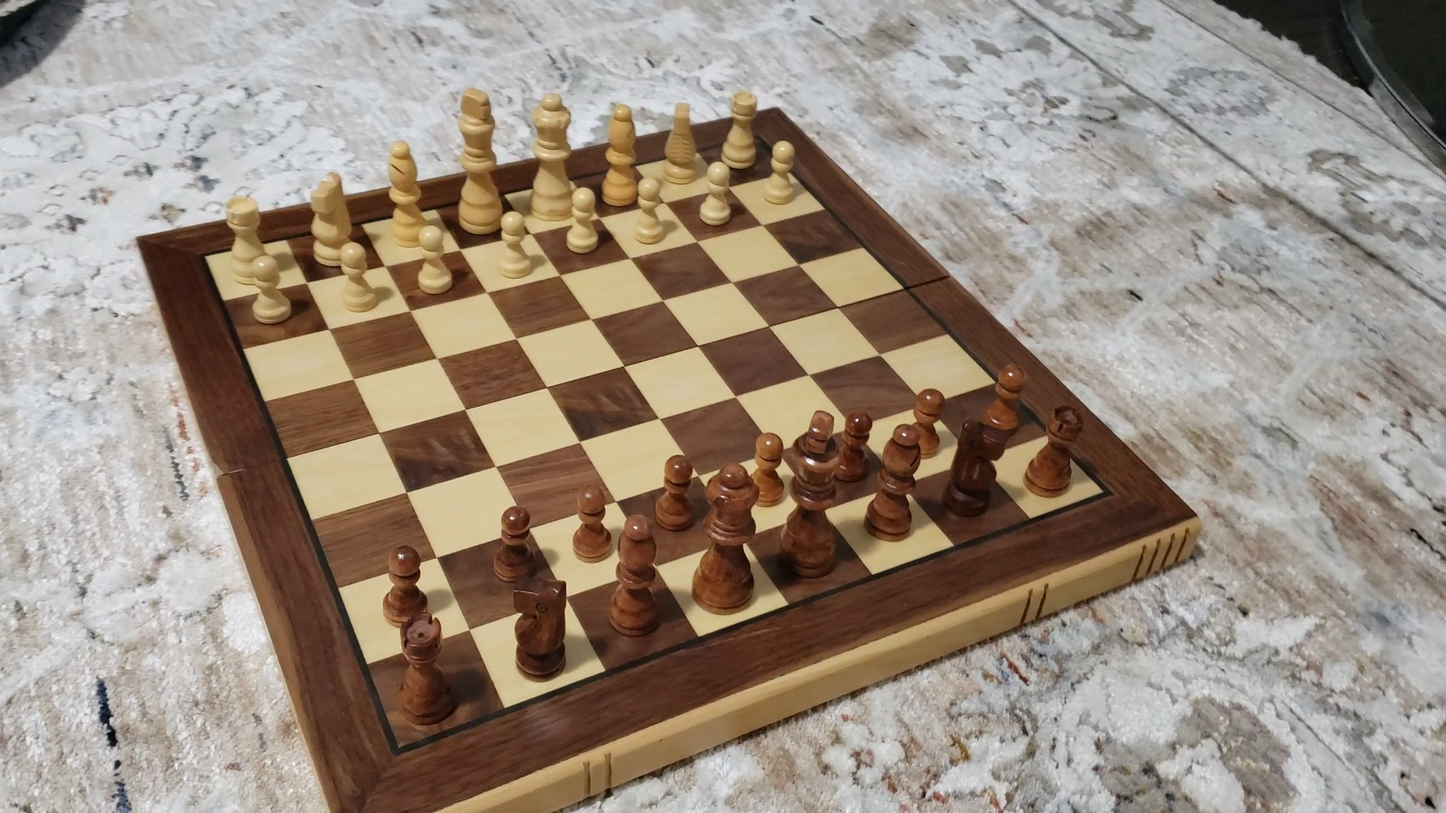black-bishop: (866, 425, 924, 543), (609, 513, 660, 637)
black-king: (779, 406, 848, 578)
black-knight: (939, 412, 1020, 518), (509, 578, 570, 681)
black-pawn: (380, 541, 430, 630), (491, 502, 539, 585), (982, 359, 1030, 436), (570, 483, 614, 566), (655, 452, 698, 534), (905, 384, 947, 460), (748, 428, 787, 508), (837, 409, 875, 483)
black-queen: (692, 462, 759, 615)
black-rook: (395, 615, 456, 729), (1022, 404, 1086, 500)
white-bishop: (384, 137, 428, 250), (602, 99, 640, 209)
white-king: (452, 84, 503, 237)
white-knight: (307, 170, 354, 269), (661, 97, 703, 186)
white-pawn: (237, 250, 299, 331), (624, 167, 676, 251), (330, 238, 385, 317), (407, 218, 459, 301), (558, 182, 607, 260), (491, 208, 539, 285), (692, 156, 740, 231), (757, 136, 804, 210)
white-queen: (528, 89, 574, 223)
white-rook: (224, 190, 272, 283), (720, 87, 761, 173)
